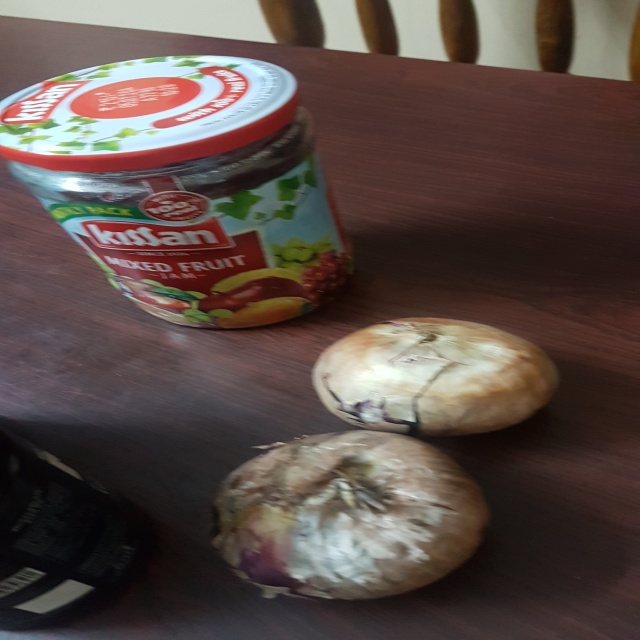onion: (201, 426, 502, 613), (306, 304, 573, 442)
